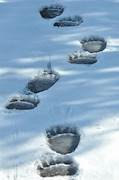bear: (43, 123, 82, 153), (36, 154, 80, 179)
